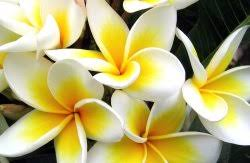frangipani: (1, 47, 125, 163)
